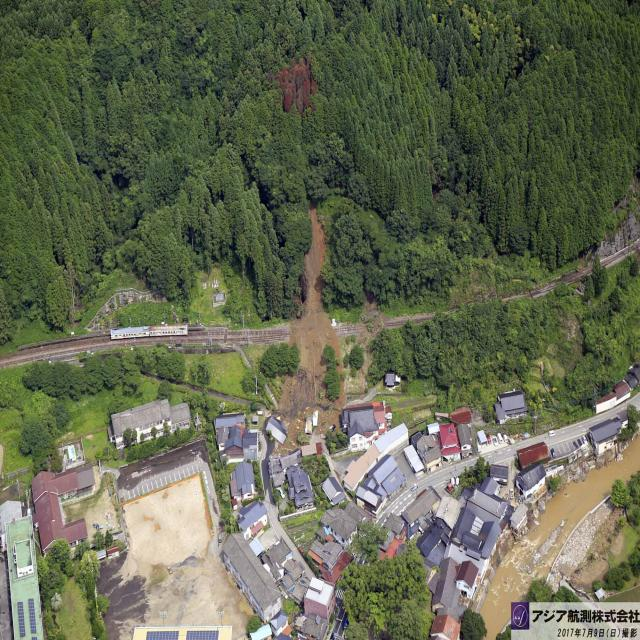Debris-flow: (291, 206, 339, 400)
